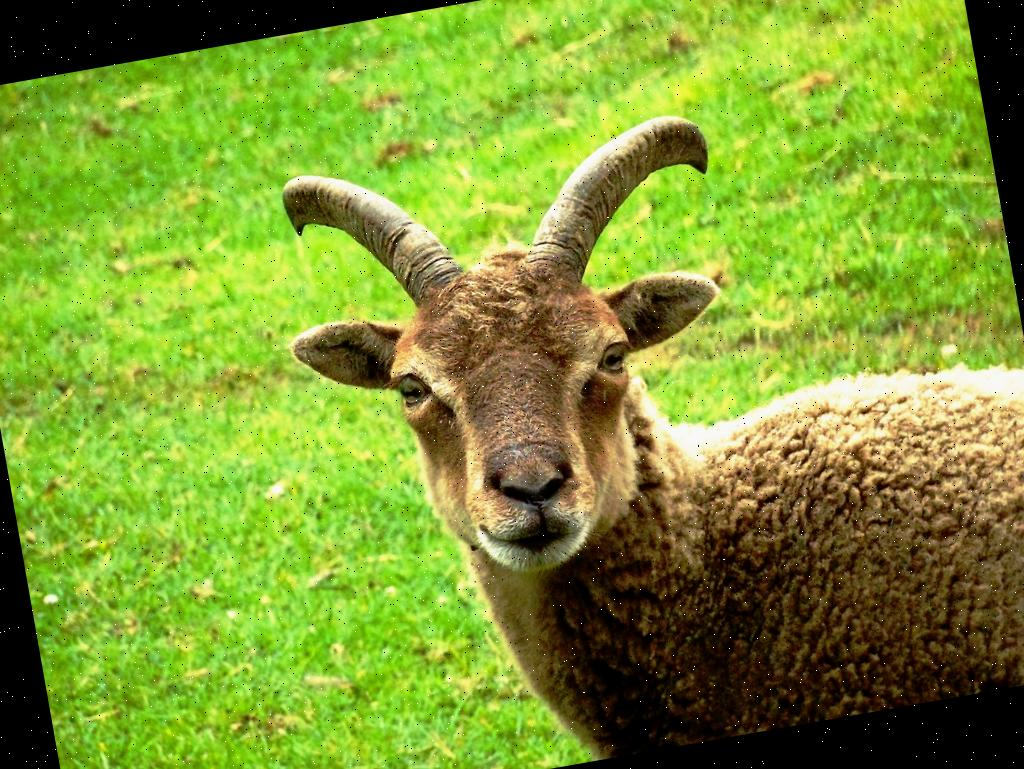Sheep: (235, 53, 994, 744)
